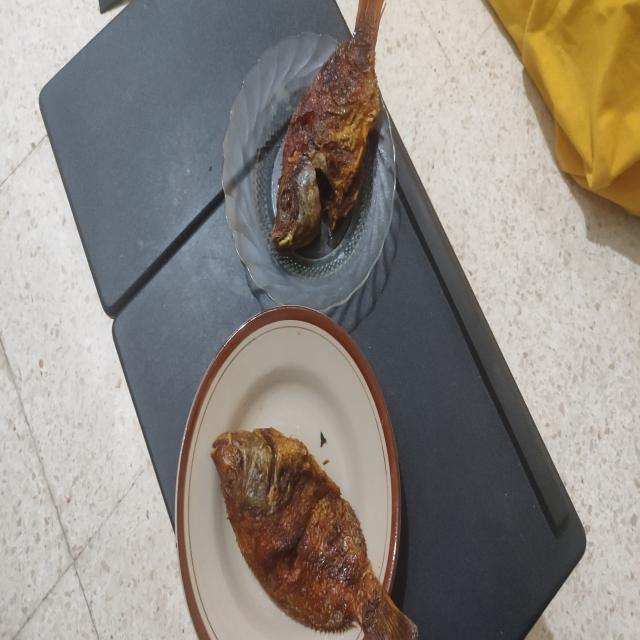ikan_mujair: (211, 428, 418, 640), (272, 0, 384, 251)
